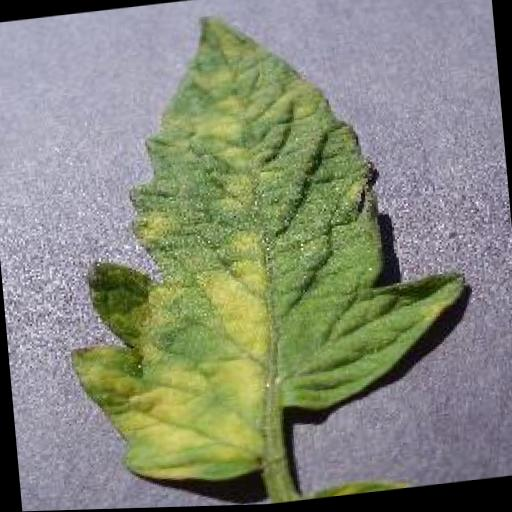Leaf Mold: (40, 0, 480, 500)
